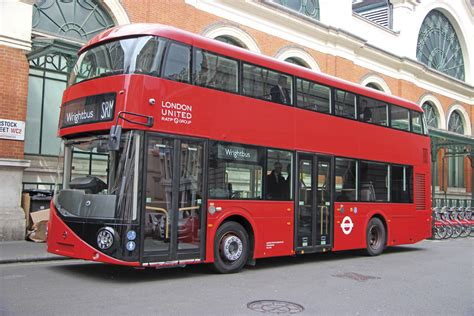bus: (52, 29, 432, 268)
